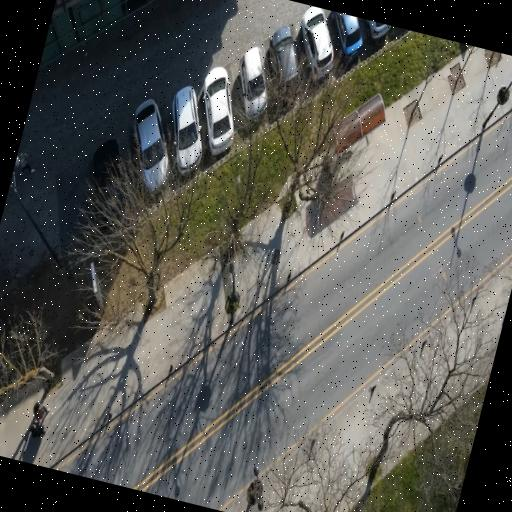car: (134, 99, 168, 191), (203, 67, 234, 155), (172, 87, 202, 174), (301, 6, 333, 79), (238, 47, 267, 118), (331, 11, 363, 63), (269, 26, 298, 83), (93, 139, 119, 187), (366, 20, 390, 40)
person: (19, 153, 34, 175), (34, 402, 49, 423), (30, 423, 45, 438)
